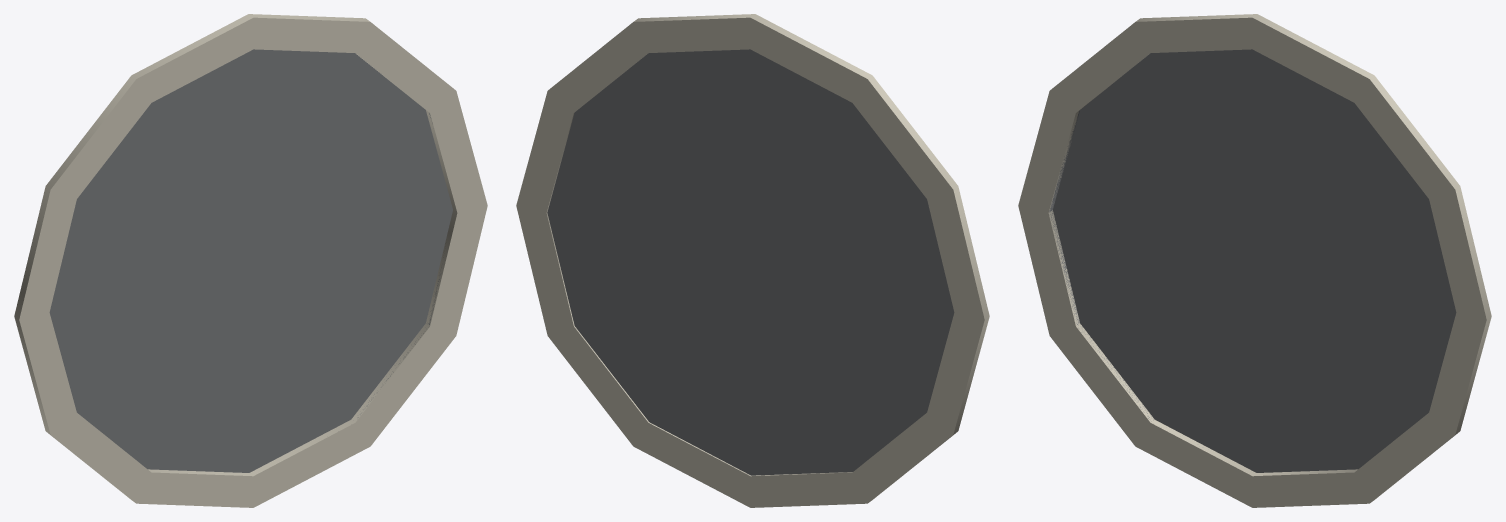
The model's file is ec2_hatch_seal.obj.
3 views of the same model, side by side, from view 1: azimuth 30°, elevation 25°; view 2: azimuth 150°, elevation 25°; view 3: azimuth 330°, elevation 25° (orthographic).
Visible parts, largest first — view 1: ec2_hatch_seal; view 2: ec2_hatch_seal; view 3: ec2_hatch_seal.
Boxes of the visible parts, x1,y1,x2,y2 form: ec2_hatch_seal: [14, 14, 487, 507]; ec2_hatch_seal: [516, 14, 989, 507]; ec2_hatch_seal: [1018, 14, 1491, 507].
Bounding box in the file's own units: 1.08 × 1.08 × 0.02.
